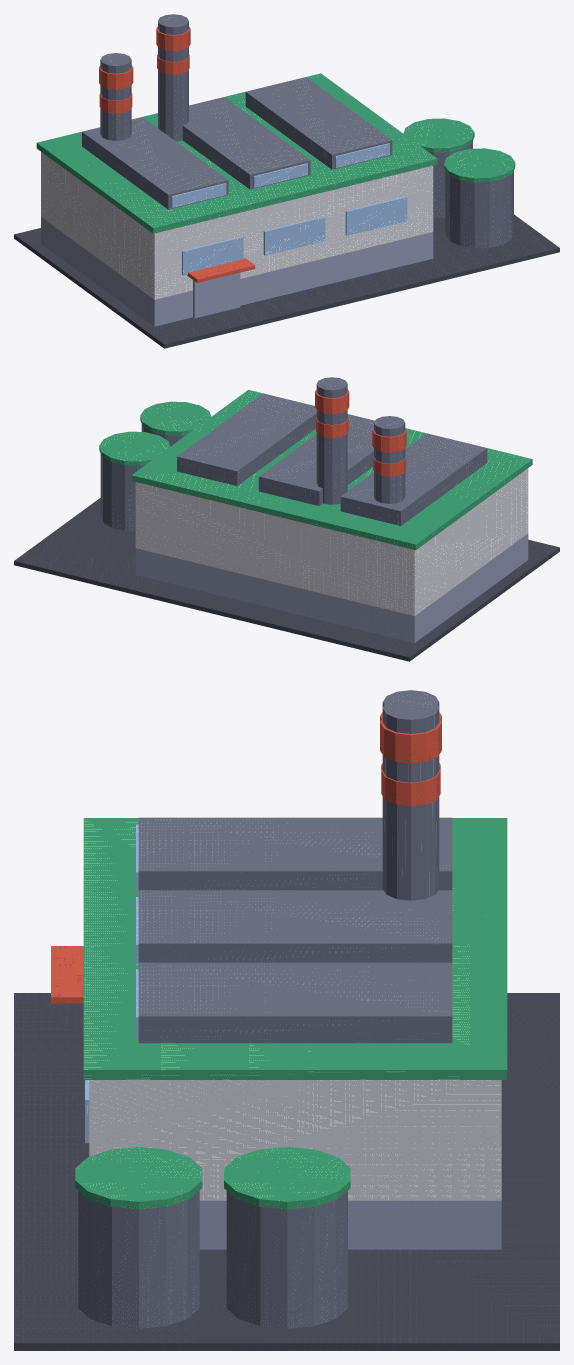
File: ind-3x2-l1.glb
The picture shows the model from 3 angles, top to bottom: view 1: azimuth 30°, elevation 25°; view 2: azimuth 150°, elevation 25°; view 3: azimuth 270°, elevation 25°; orthographic projection. The views are drawn at different scales.
Parts seen in each view (by area): view 1: ind-3x2-l1; view 2: ind-3x2-l1; view 3: ind-3x2-l1.
Part boxes in pixels (x1,y1,x2,y2): ind-3x2-l1: (14, 14, 559, 348); ind-3x2-l1: (14, 377, 559, 661); ind-3x2-l1: (14, 690, 559, 1350).
Size of the model in its own units: 5.86 by 3.1 by 3.86.
Materials: 1 (1 with a texture image).
